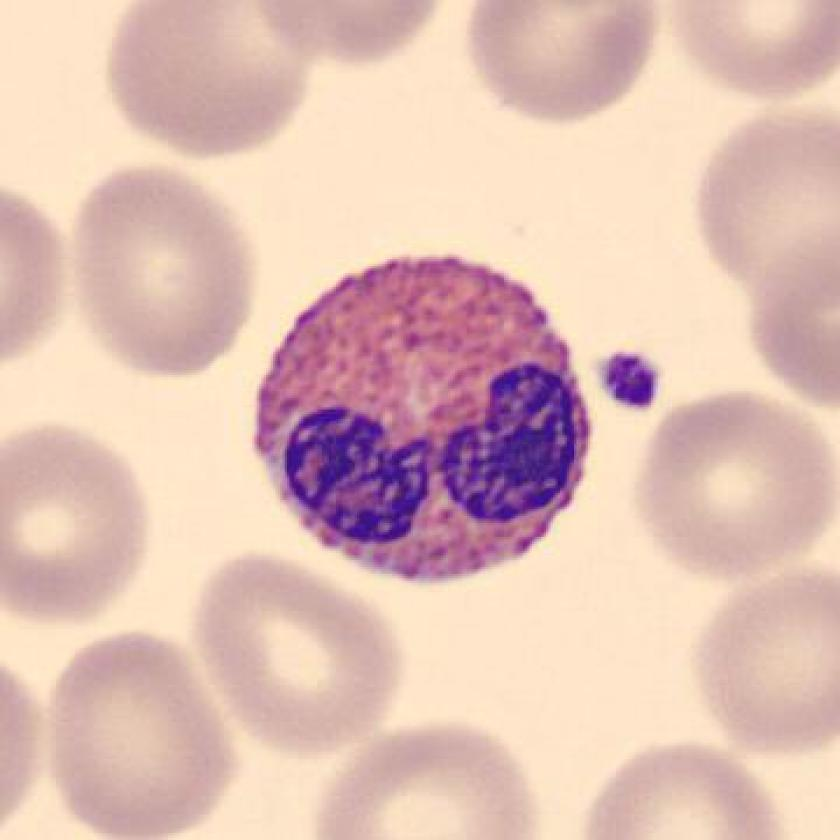eosinophil: (251, 242, 601, 591)
